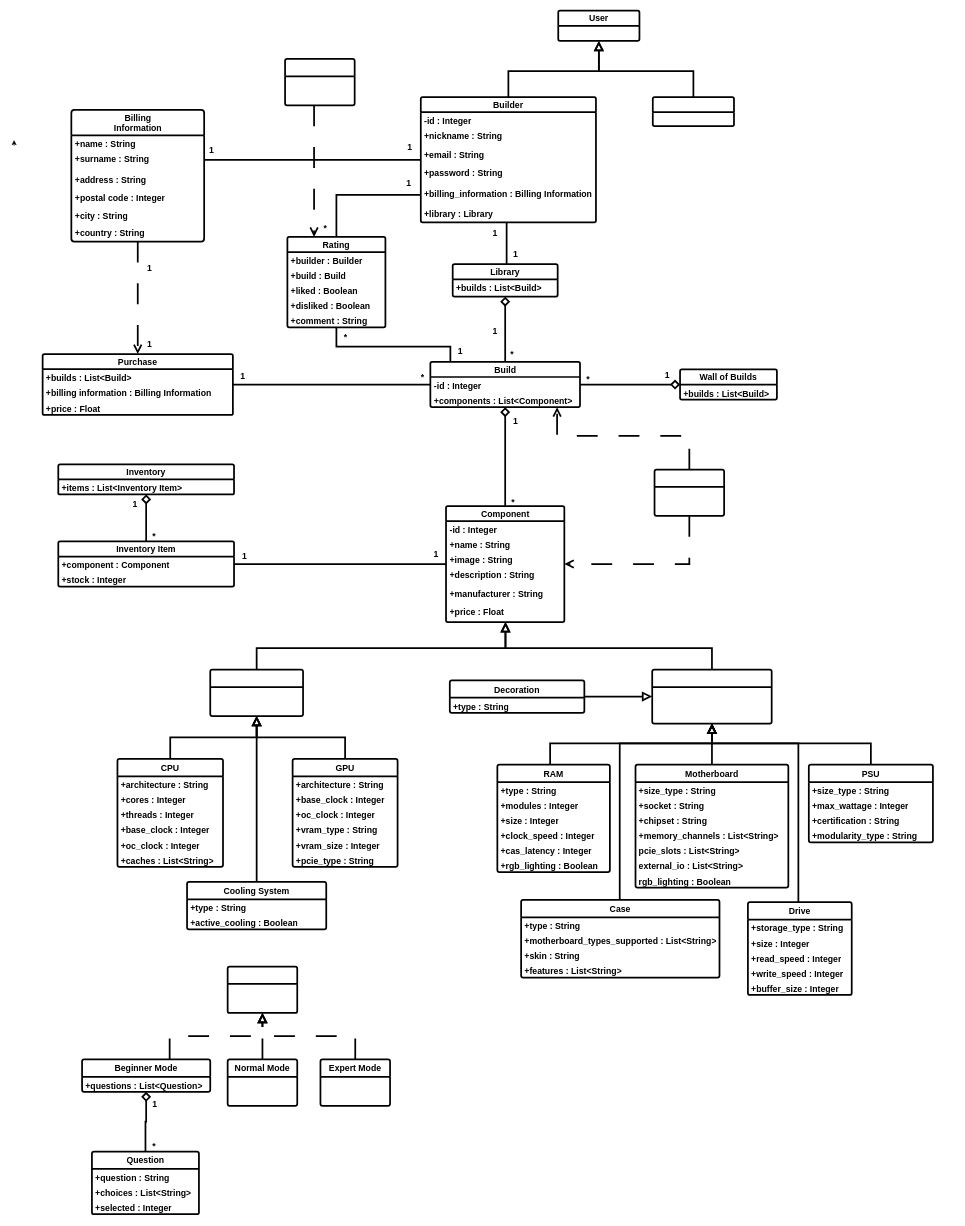
Image size: 965x1226. Some labels were removed from this diagram. Here are the shapes that lost their labels. From the top down, the centre of each, then its label:
point 319,82: Spell Checker
point 693,111: Guest
point 689,492: Build Generator
point 256,692: Basic Component
point 711,696: Dependent Components
point 262,989: Building Mode
